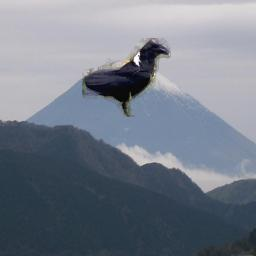Crow: (82, 38, 171, 117)
